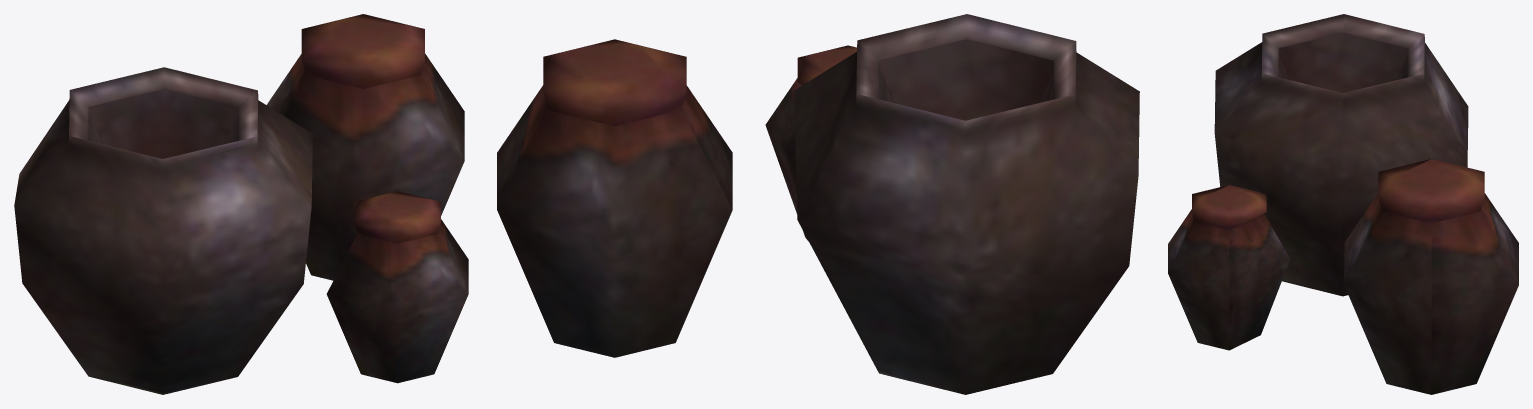
File: zc_erhai_guanzi01.FBX
3 renders of one model, left to right at view 1: azimuth 30°, elevation 25°; view 2: azimuth 150°, elevation 25°; view 3: azimuth 270°, elevation 25°, orthographic. The views are drawn at different scales.
Parts seen in each view (by area): view 1: zc_erhai_guanzi01; view 2: zc_erhai_guanzi01; view 3: zc_erhai_guanzi01.
Boxes of the visible parts, x1=… form: zc_erhai_guanzi01: x1=14, y1=14, x2=468, y2=394; zc_erhai_guanzi01: x1=497, y1=14, x2=1139, y2=394; zc_erhai_guanzi01: x1=1168, y1=14, x2=1518, y2=394.
Bounding box in the file's own units: 304 × 144 × 214.
1 material, 1 textured.
